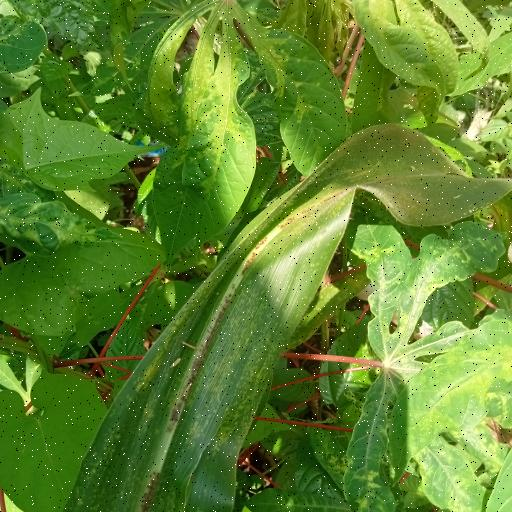Corn_Brown_Spots: (102, 124, 512, 509)
